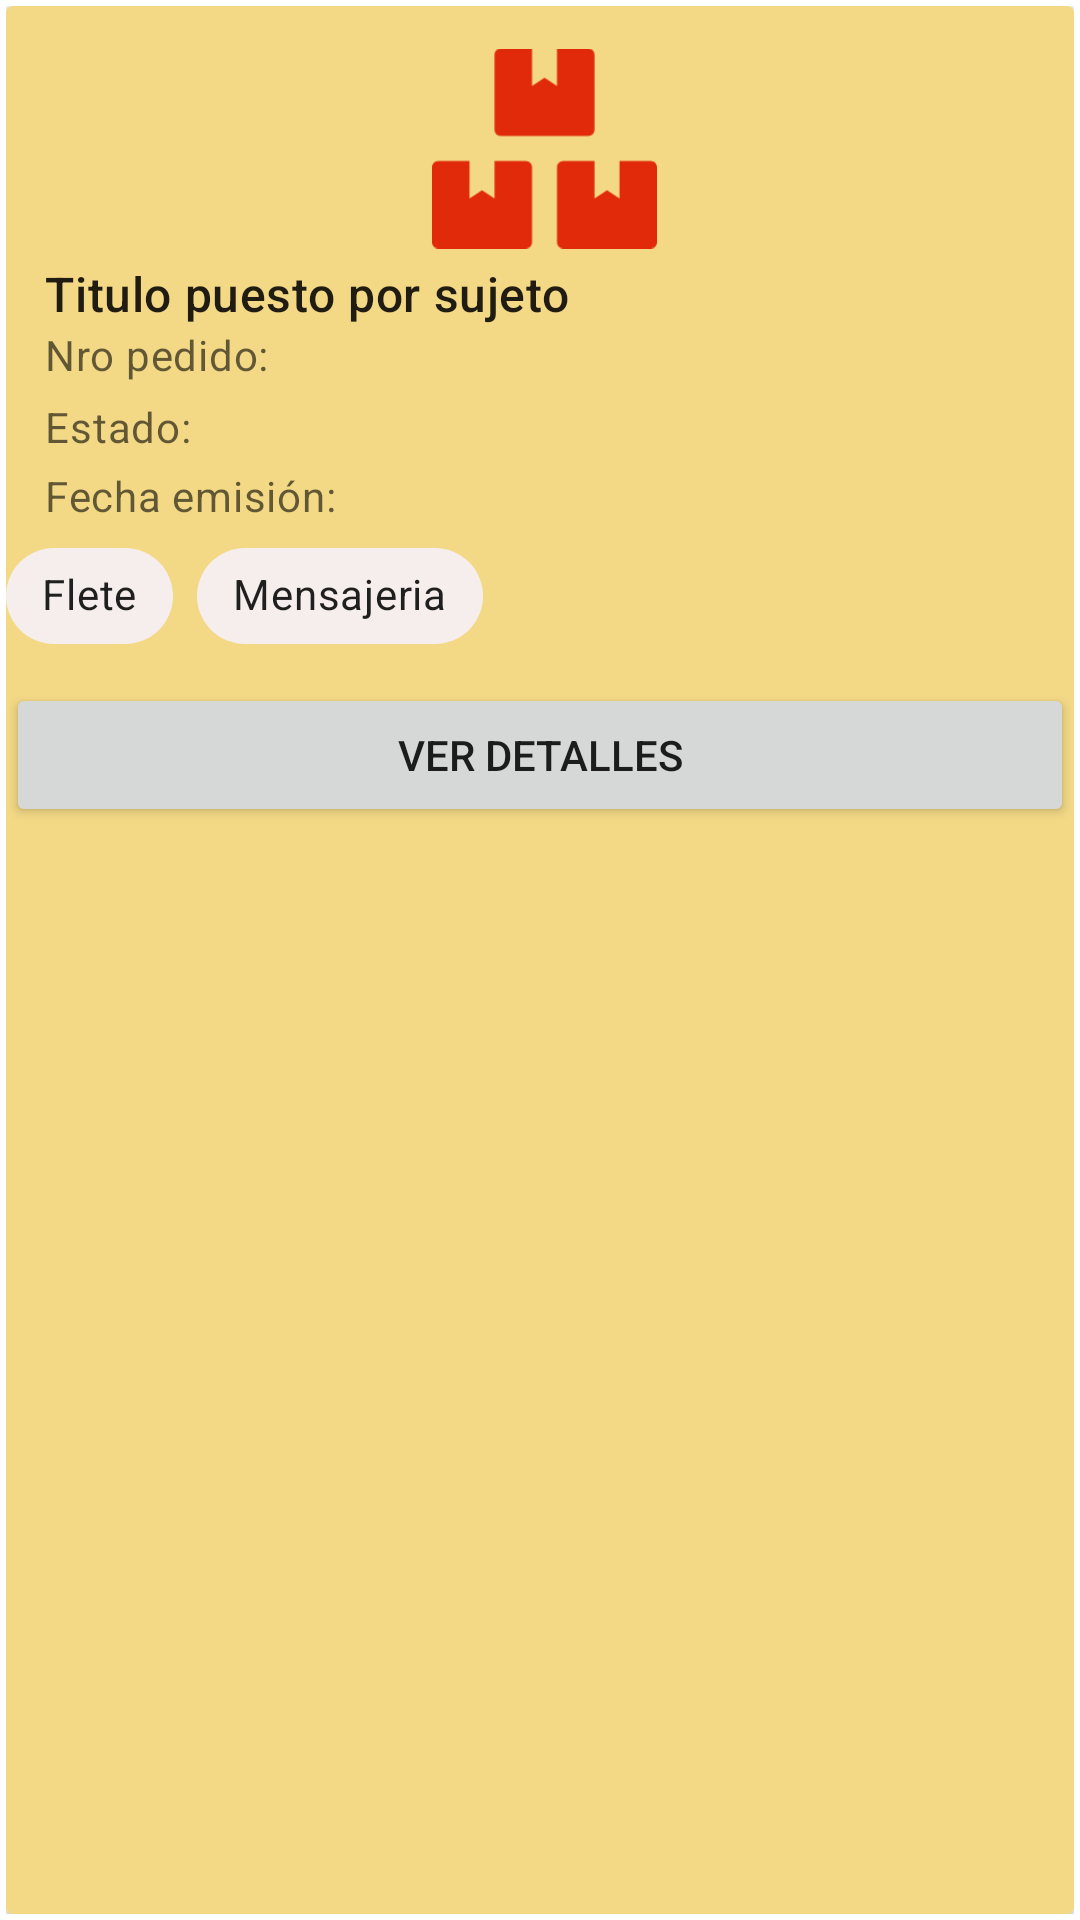

Screen size 1080×1920. Icon name, then its center in pixels as point (x, y):
cajas: point (544, 149)
